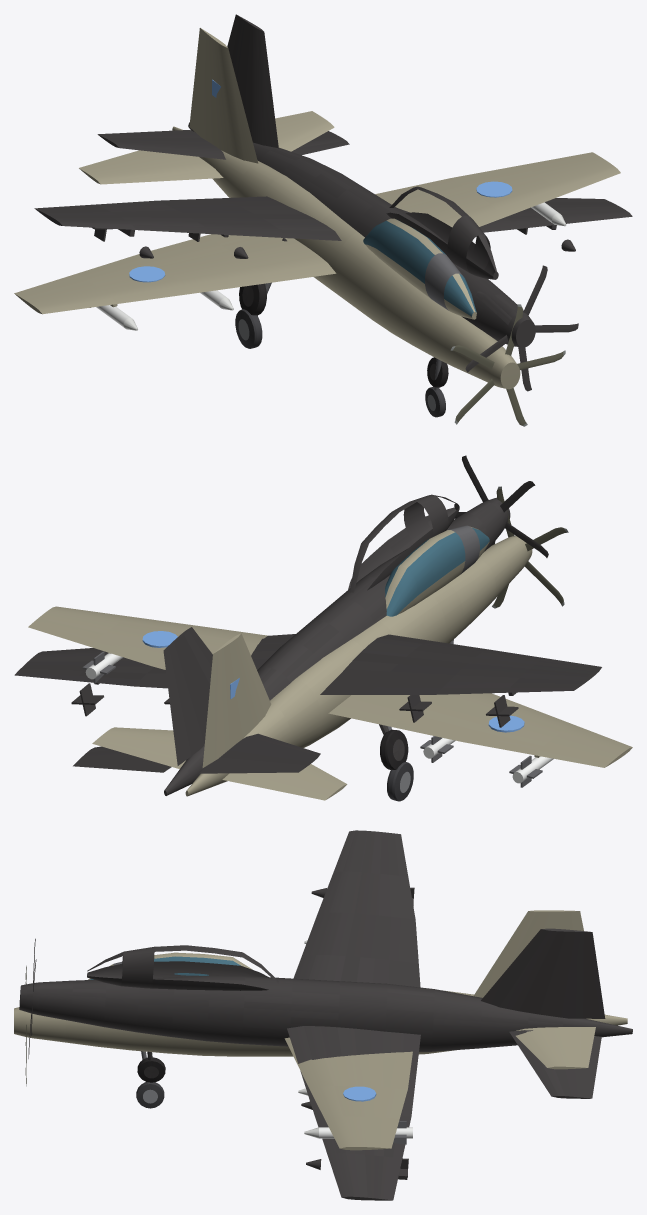
File: superTucano__a_29_super_tucano.glb
3 views of the same model, one above another, from view 1: azimuth 30°, elevation 25°; view 2: azimuth 150°, elevation 25°; view 3: azimuth 270°, elevation 25° (orthographic). The views are drawn at different scales.
Visible parts, largest first — view 1: Fuselage_Mesh, Wreck, Propeller_Mesh; view 2: Fuselage_Mesh, Wreck, Propeller_Mesh; view 3: Wreck, Fuselage_Mesh.
Part boxes in pixels (x1=…): Fuselage_Mesh: x1=14, y1=28, x2=620, y2=417; Wreck: x1=34, y1=14, x2=632, y2=391; Propeller_Mesh: x1=450, y1=304, x2=565, y2=426; Fuselage_Mesh: x1=28, y1=525, x2=632, y2=801; Wreck: x1=14, y1=455, x2=601, y2=795; Propeller_Mesh: x1=492, y1=486, x2=568, y2=608; Wreck: x1=19, y1=830, x2=632, y2=1200; Fuselage_Mesh: x1=14, y1=910, x2=627, y2=1150.
Size of what is drawn, in the model's own units: 11.39 by 3.99 by 11.32.
